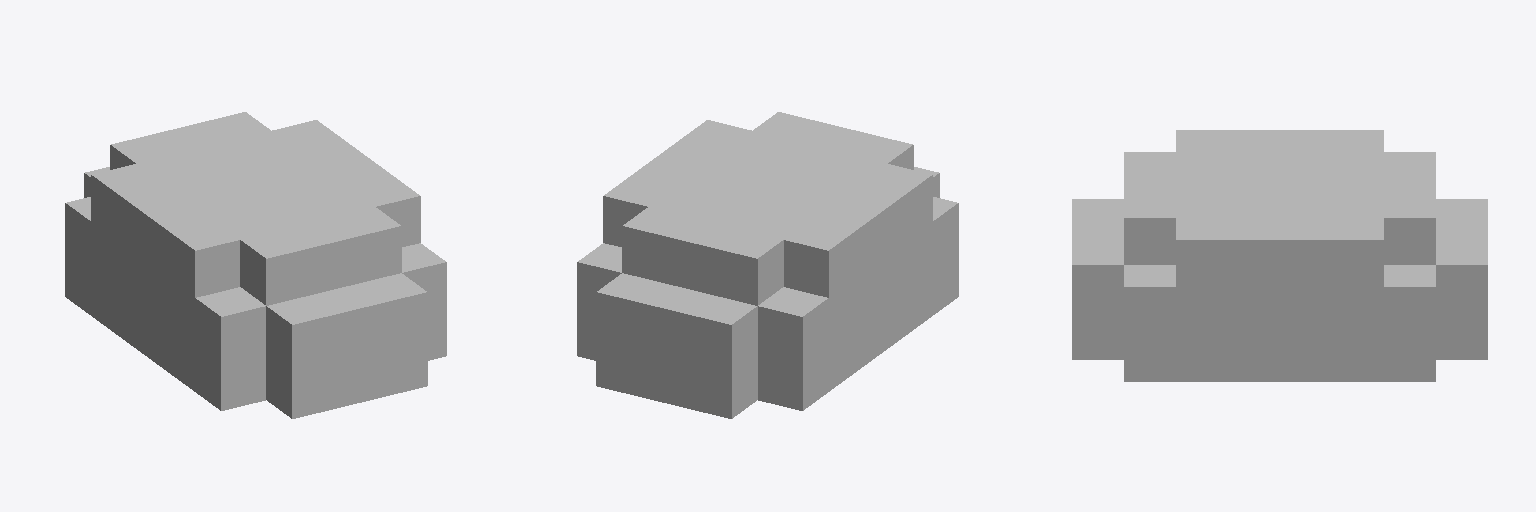
File: player-0.obj
The picture shows the model from 3 angles: view 1: azimuth 30°, elevation 25°; view 2: azimuth 150°, elevation 25°; view 3: azimuth 270°, elevation 25°; orthographic projection.
Parts seen in each view (by area): view 1: object 1; view 2: object 1; view 3: object 1.
Boxes of the visible parts, <box> form: object 1: <box>65,112,446,418</box>; object 1: <box>577,112,958,418</box>; object 1: <box>1072,130,1487,381</box>.
Bounding box in the file's own units: 0.5 × 0.3 × 0.8.